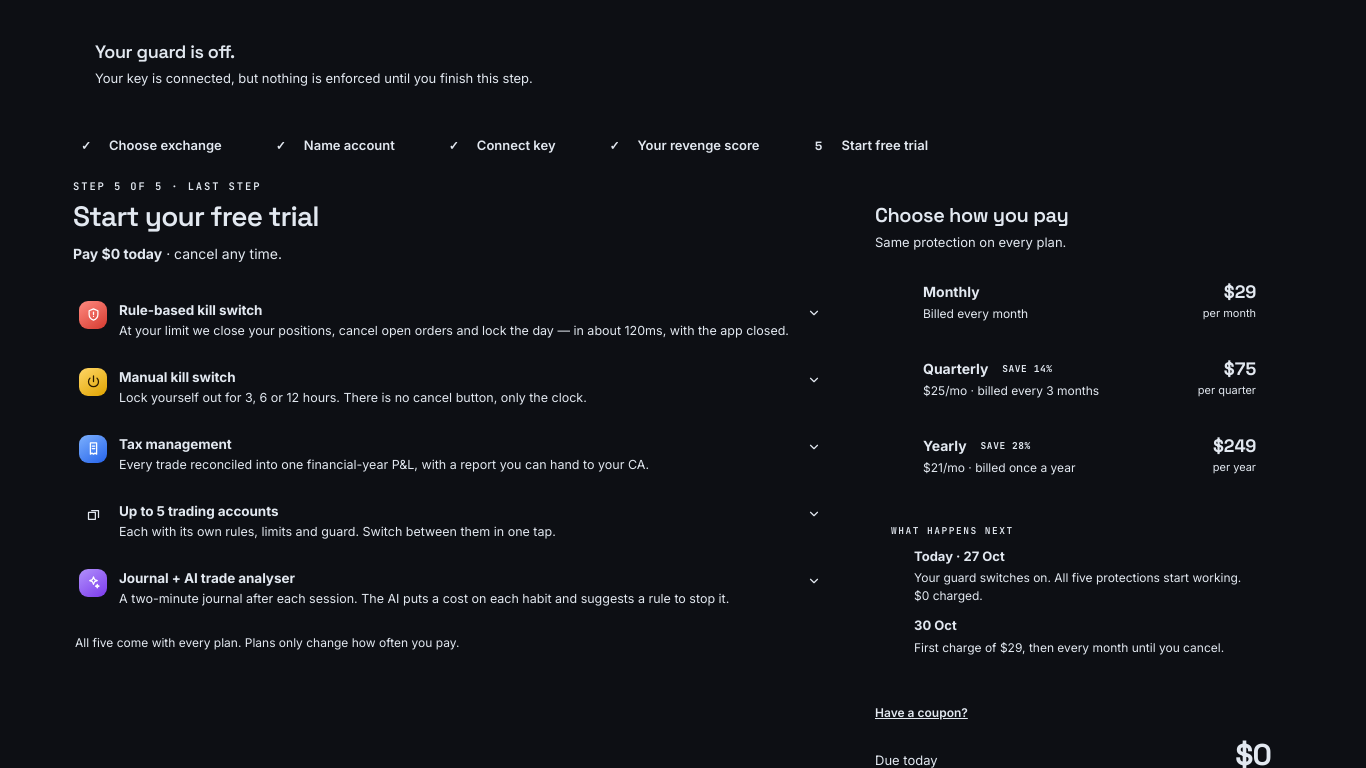
Test case: billing step › prices the selected plan after Apply, and the timeline with it
The image size is (1366, 768).
Click the button "Have a coupon?": (921, 712) x1=875 y1=704 x2=968 y2=722
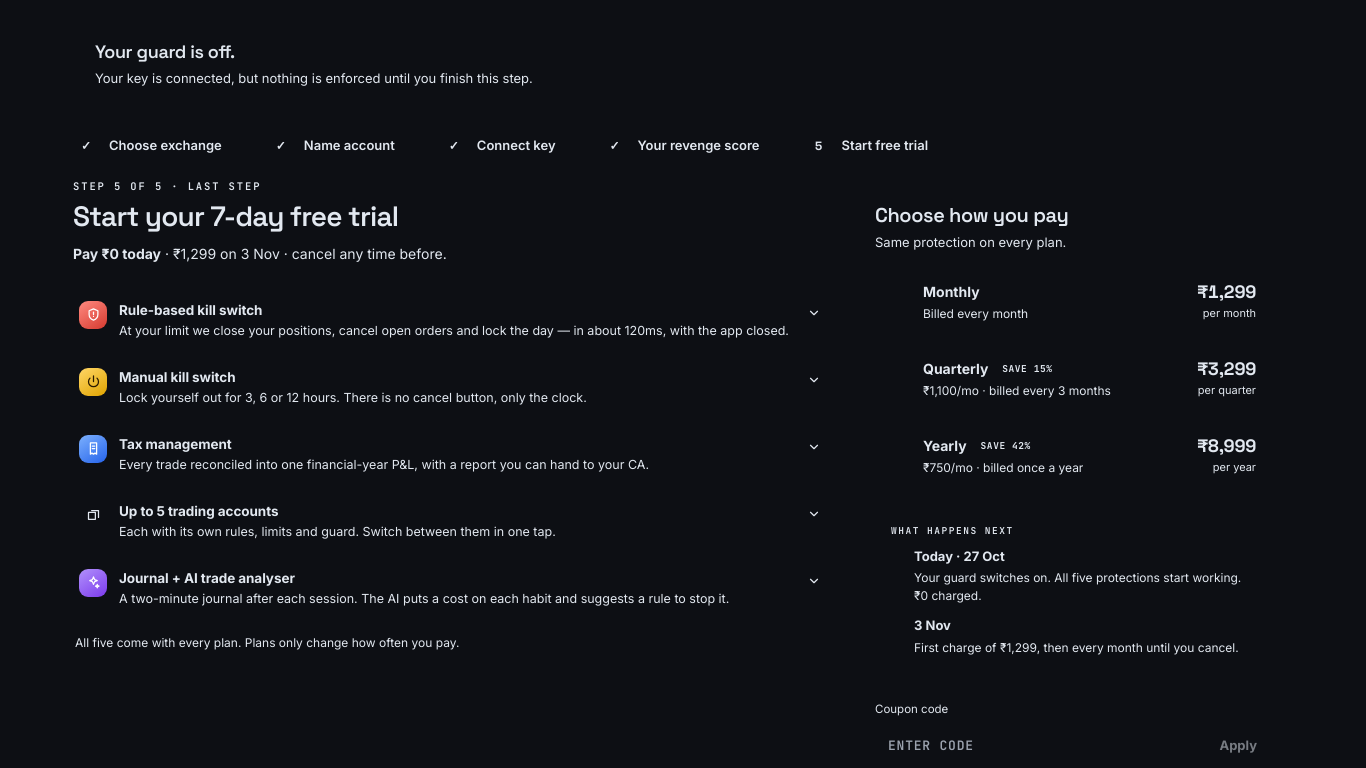
In the field with placeholder "Enter code": (1036, 746) x1=875 y1=724 x2=1197 y2=767, type "save15"
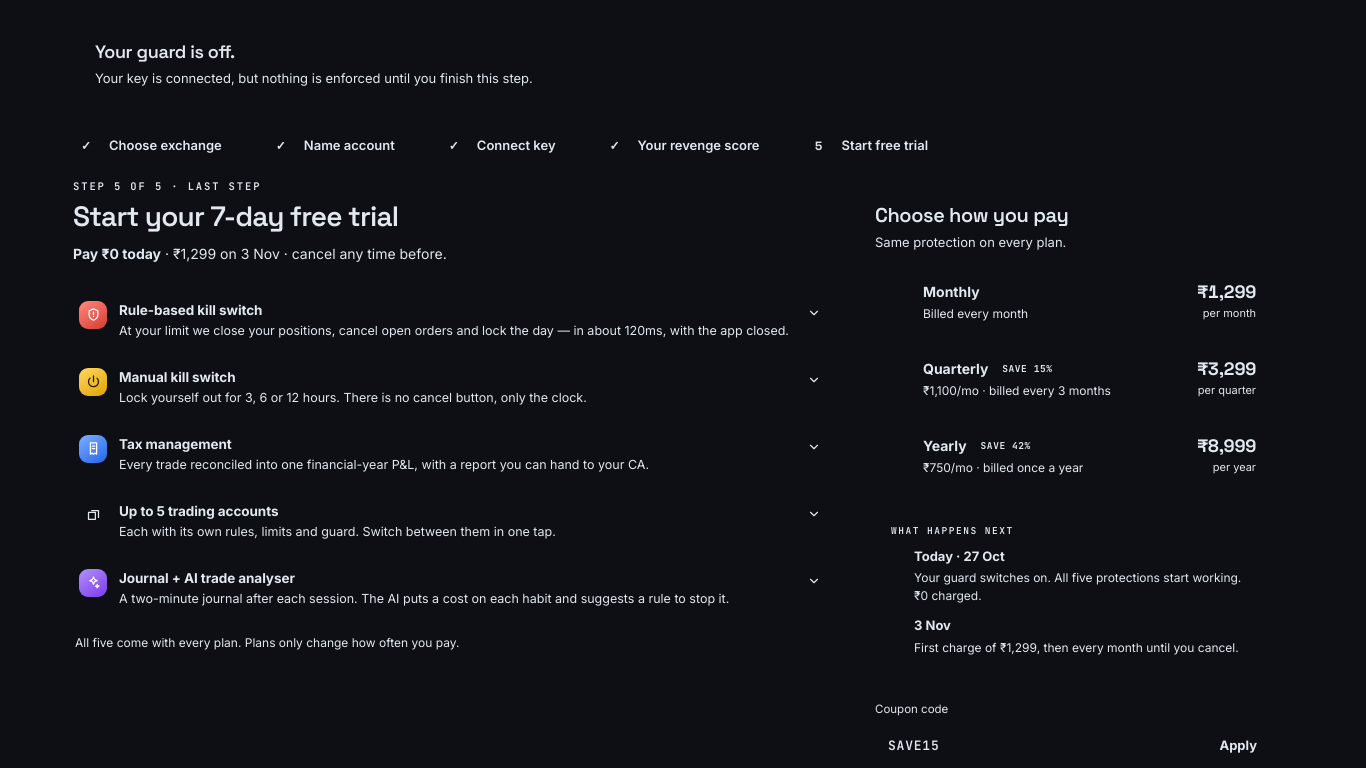
Click the button "Apply": (1238, 746) x1=1205 y1=724 x2=1271 y2=767
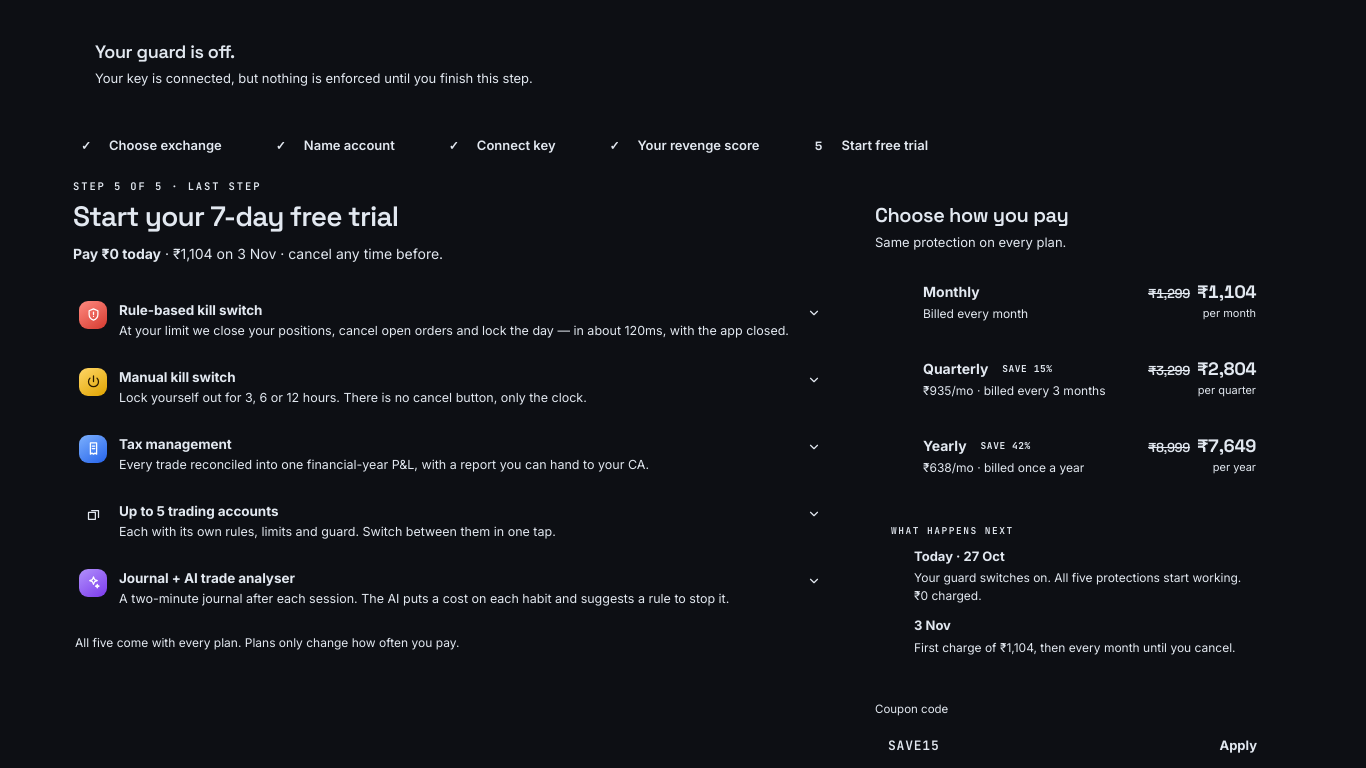
Result: the text "₹1,104" is shown at x1=1197 y1=280 x2=1256 y2=303
Result: the text "First charge of ₹1,104, then every month until you cancel." is shown at x1=914 y1=638 x2=1236 y2=656
Result: the text "₹2,804" is shown at x1=1197 y1=357 x2=1256 y2=380
